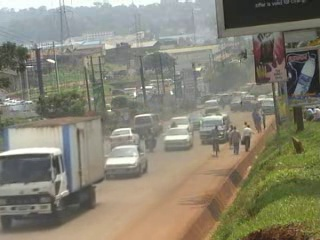Car: (102, 141, 150, 180), (160, 126, 195, 153), (109, 126, 143, 149), (168, 112, 191, 130), (227, 102, 260, 112), (188, 114, 206, 129)
Motorcycle: (140, 129, 157, 152), (216, 96, 226, 112), (167, 120, 179, 131)
